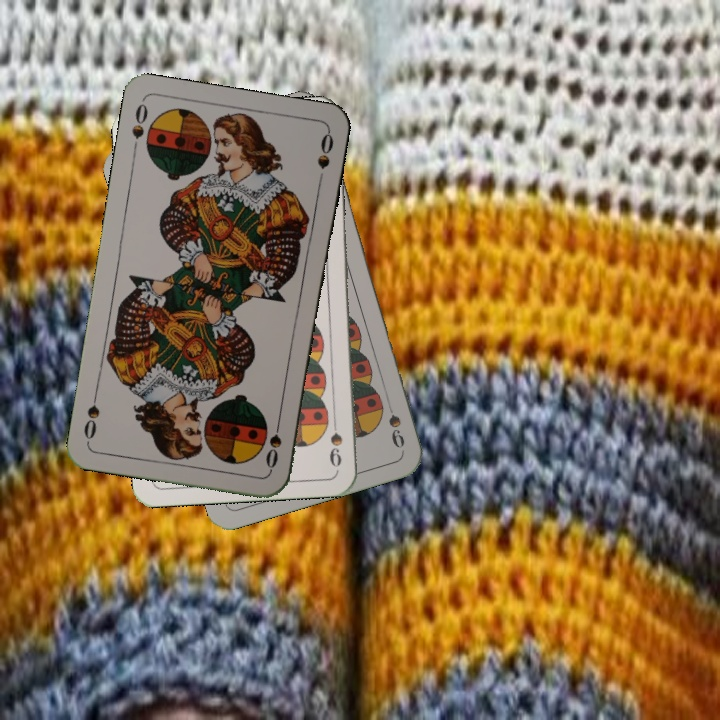S9: (326, 411, 345, 470), (384, 410, 407, 451)
SO: (127, 99, 151, 157), (261, 414, 284, 473)
